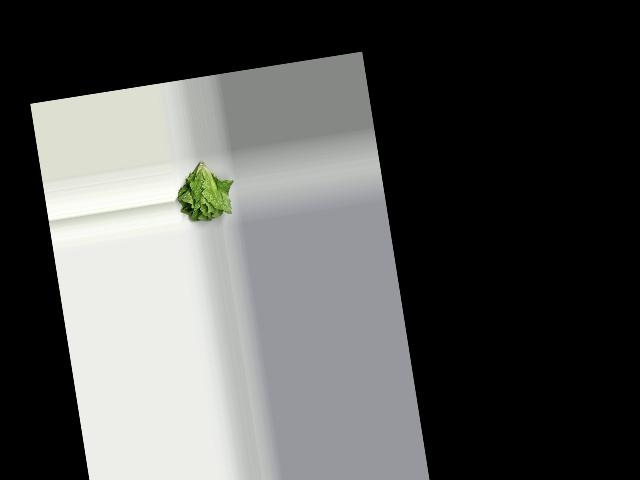lettuce: (172, 155, 233, 228)
